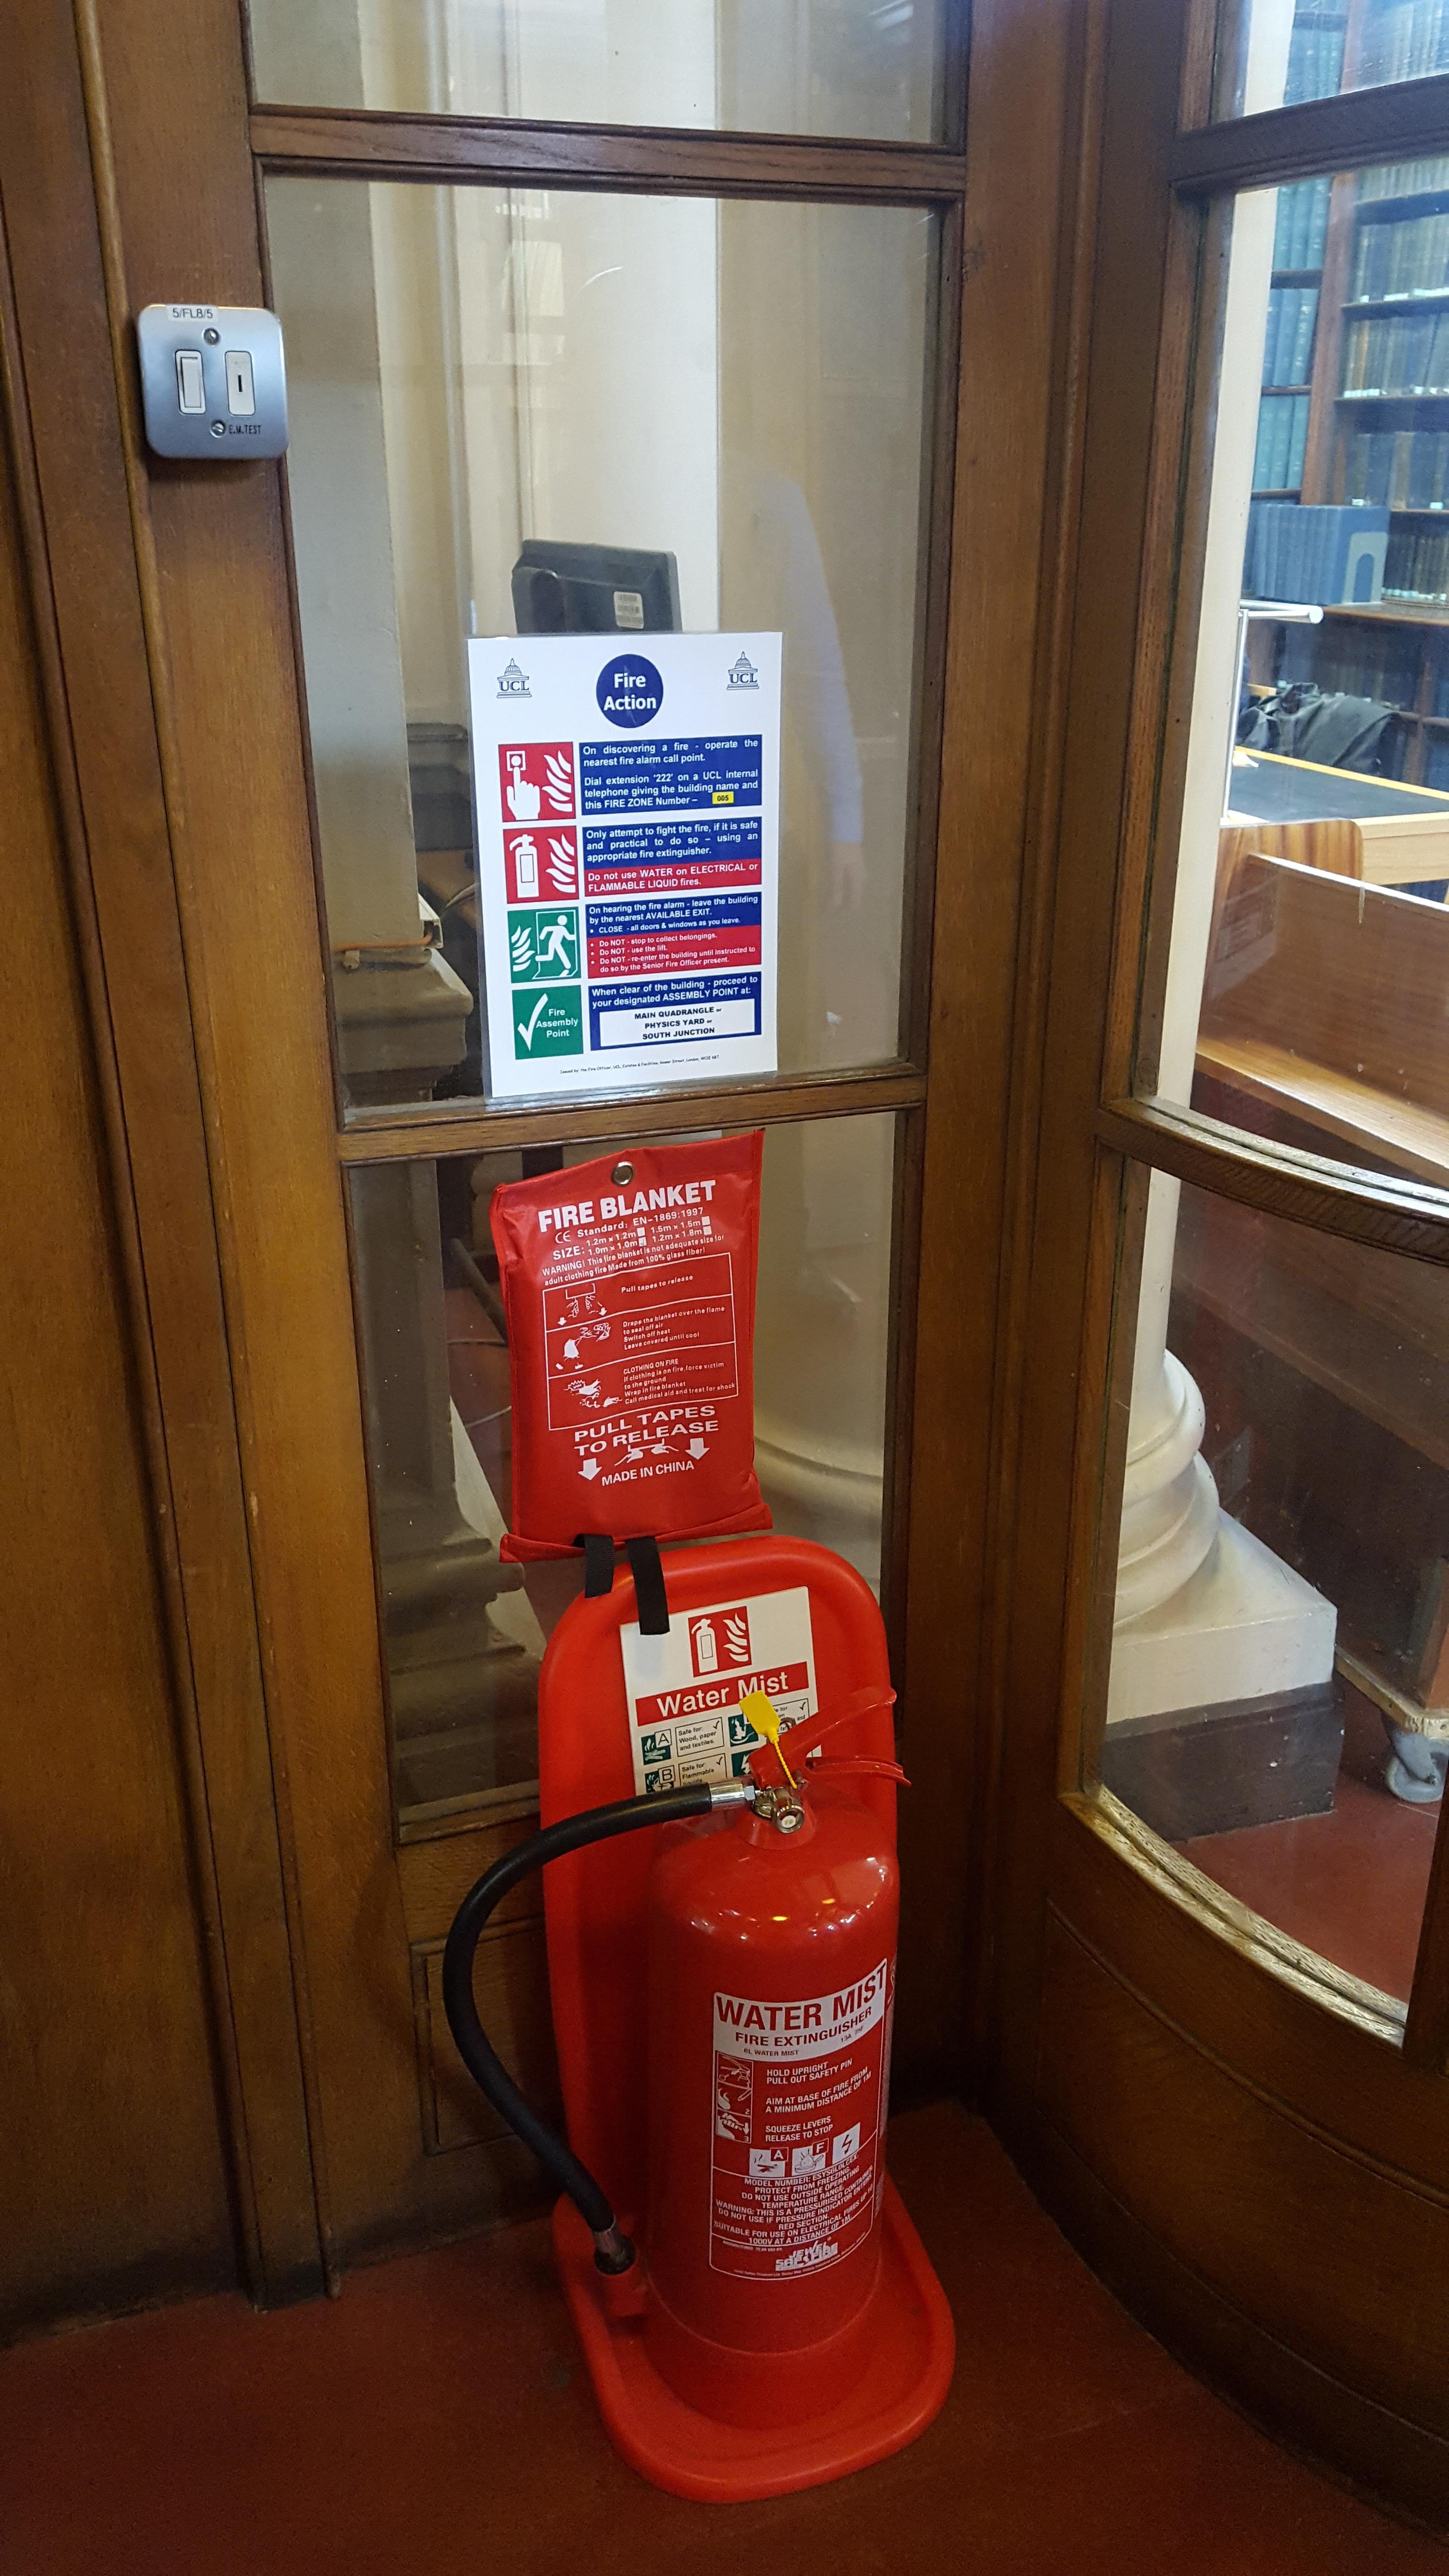blanket: (487, 1127, 775, 1562)
extinguisher: (441, 1684, 911, 2433)
